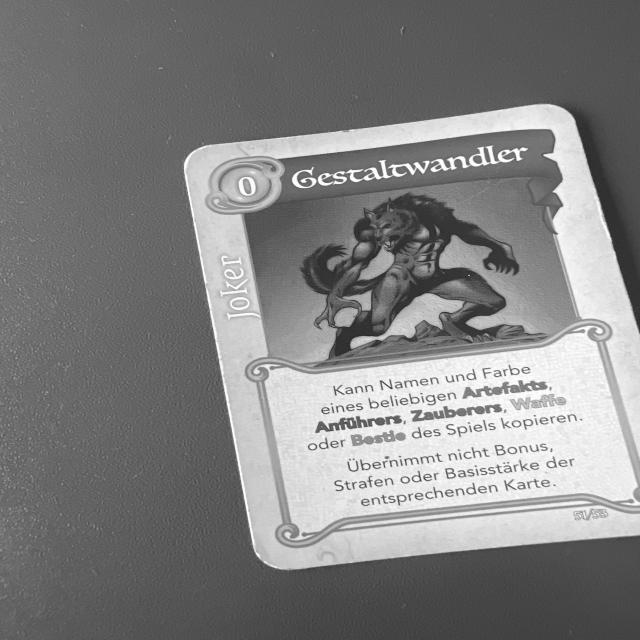Shapeshifter: (169, 93, 640, 584)
